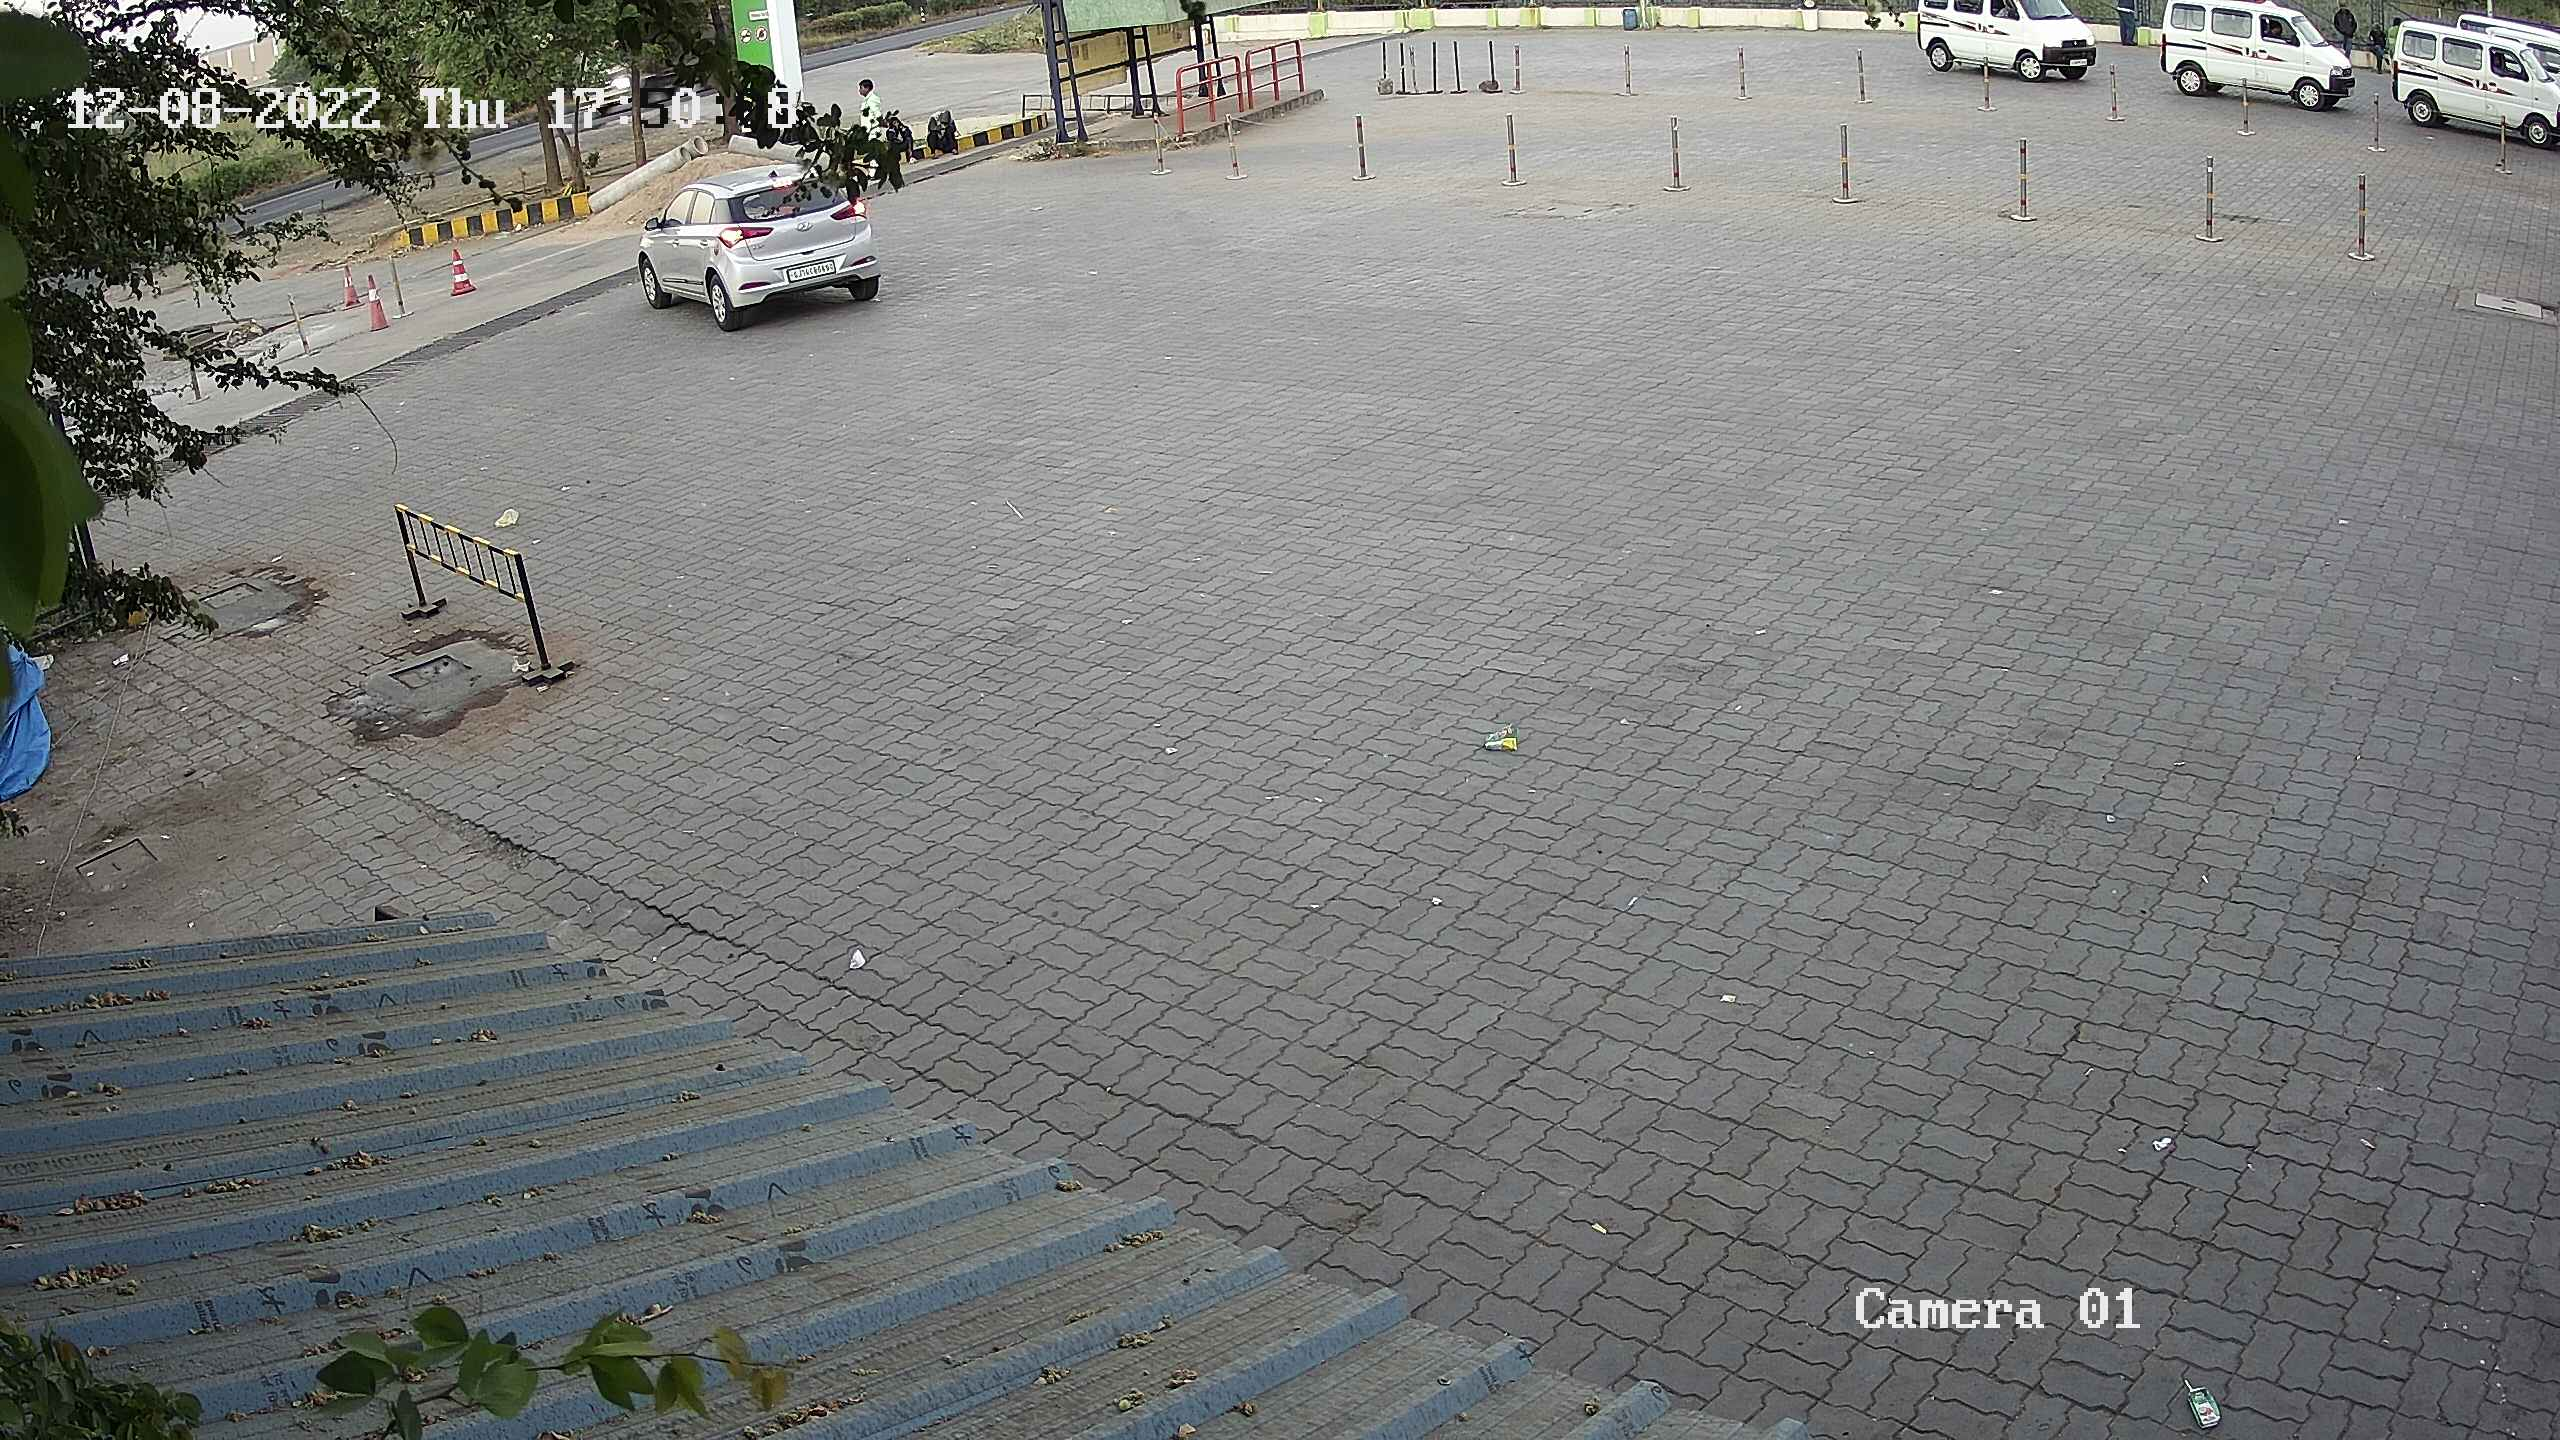Car: (614, 153, 914, 346), (2382, 5, 2555, 165), (2142, 0, 2361, 116), (1892, 0, 2105, 93), (2433, 2, 2556, 111), (2479, 18, 2558, 95)
